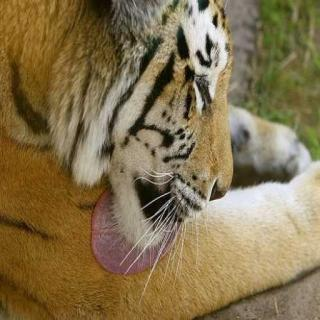Tiger: (0, 0, 276, 320)
